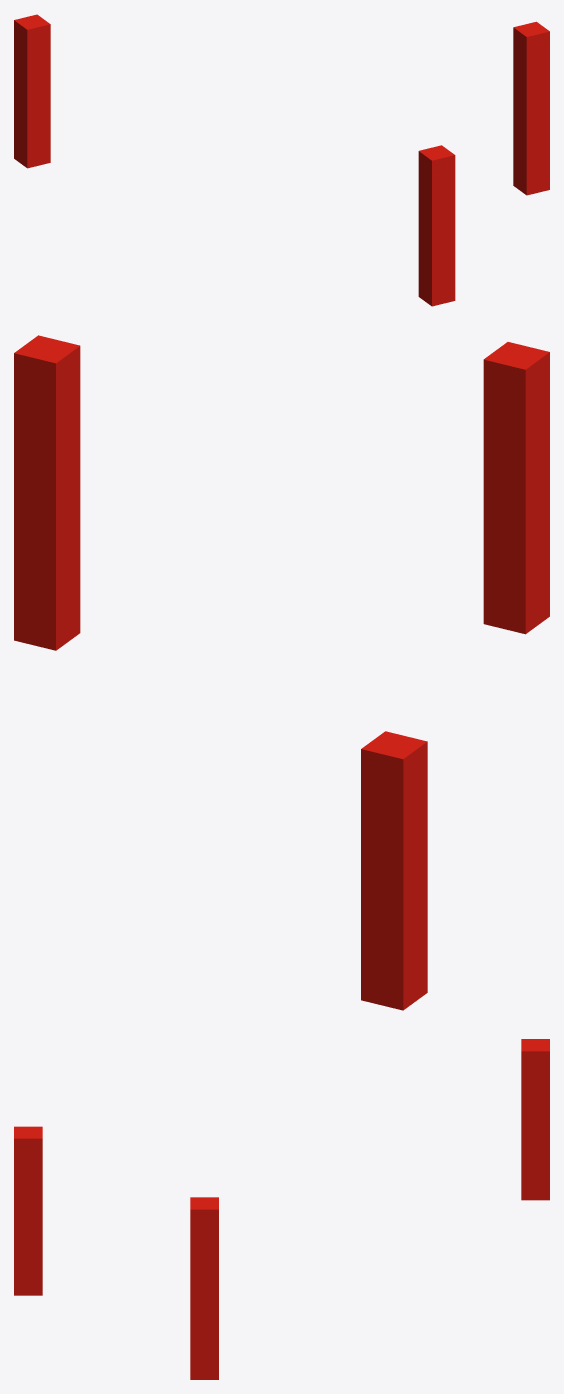
Rendered from Lifts_Ground.fbx.
3 renders of one model, top to bottom at view 1: azimuth 30°, elevation 25°; view 2: azimuth 150°, elevation 25°; view 3: azimuth 270°, elevation 25°, orthographic. The views are drawn at different scales.
Visible parts, largest first — view 1: Lift1, Lift2, Lift3; view 2: Lift1, Lift2, Lift3; view 3: Lift1, Lift2, Lift3.
Boxes of the visible parts, x1=… form: Lift1: x1=513, y1=21, x2=549, y2=195; Lift2: x1=418, y1=145, x2=455, y2=306; Lift3: x1=14, y1=14, x2=50, y2=168; Lift1: x1=14, y1=335, x2=80, y2=650; Lift2: x1=483, y1=342, x2=549, y2=634; Lift3: x1=361, y1=731, x2=427, y2=1010; Lift1: x1=190, y1=1197, x2=218, y2=1379; Lift2: x1=14, y1=1126, x2=42, y2=1295; Lift3: x1=521, y1=1039, x2=549, y2=1200.
Size of what is drawn, in the model's own units: 36083 by 15550 by 42292.
